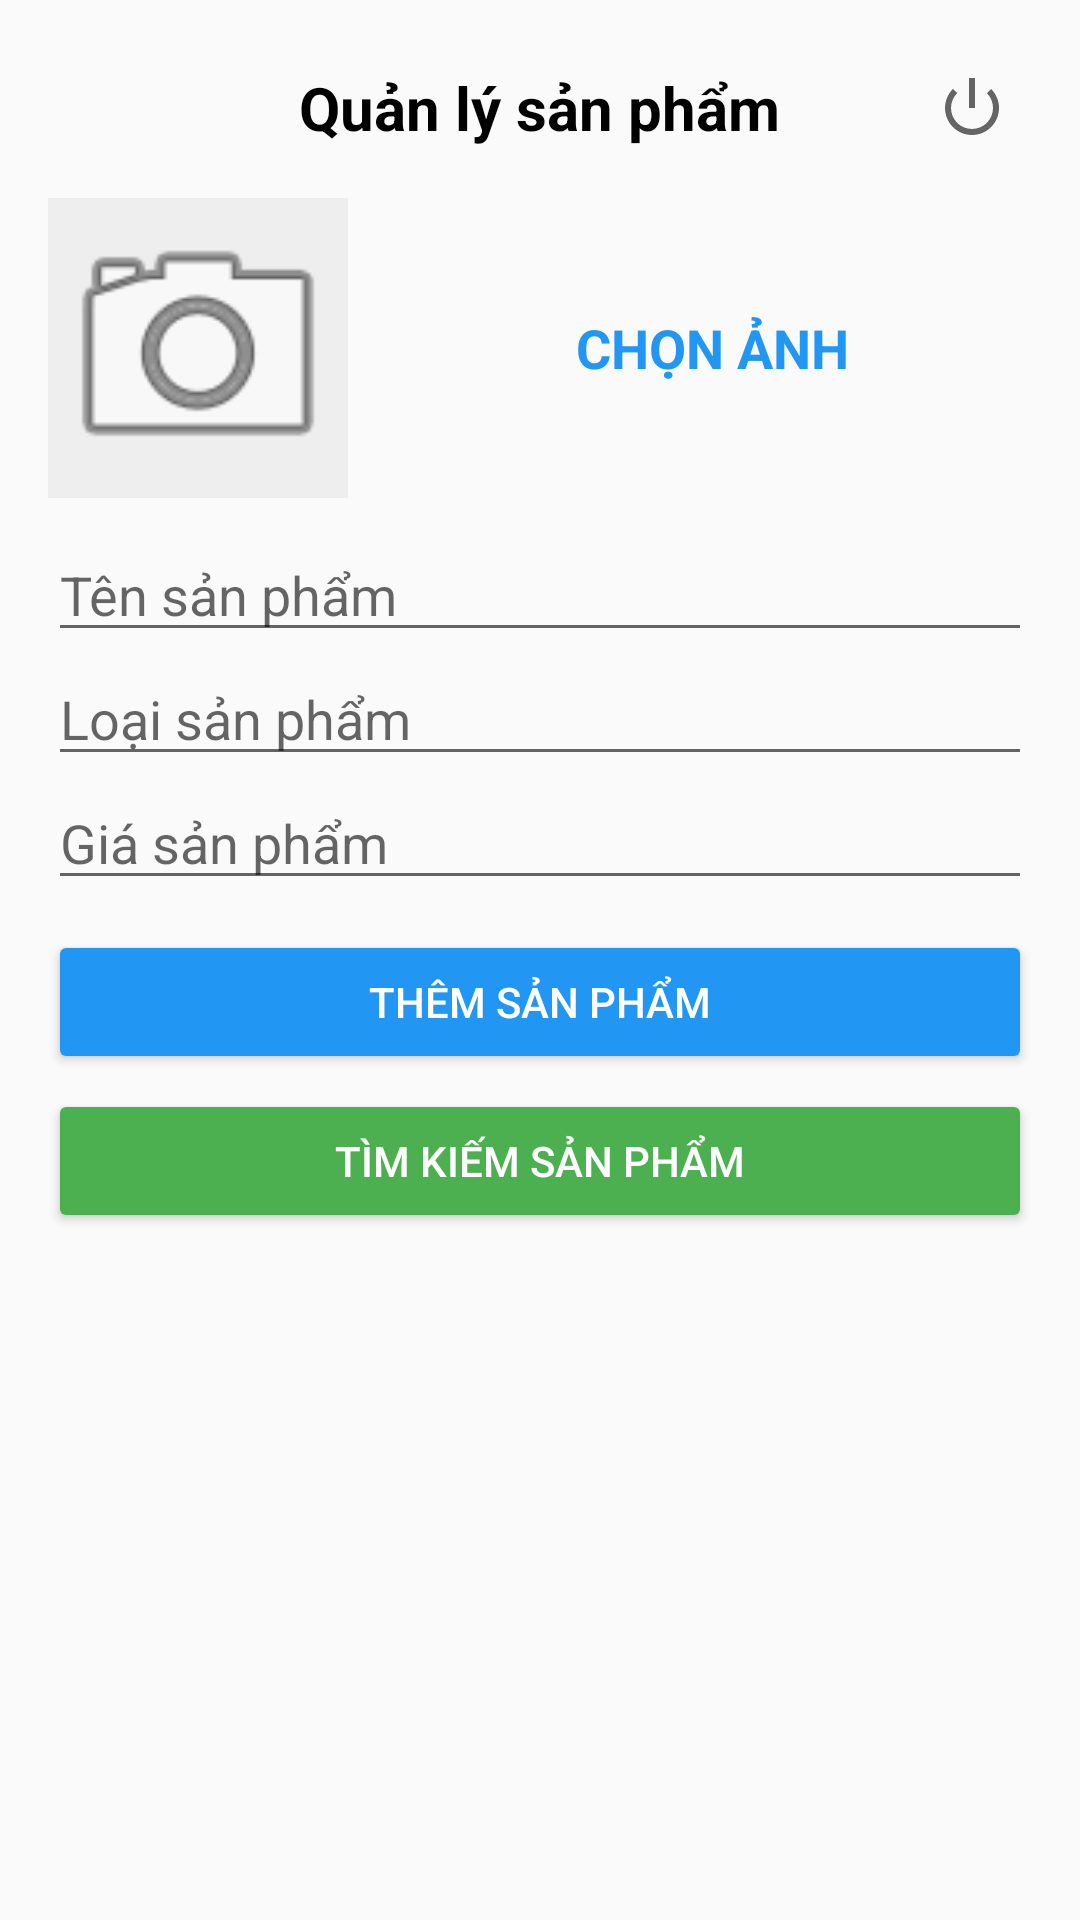

Where icons sit on this 1080*1920 app screen, as bbox=[x1, y1, x2, y2]:
Đăng xuất: bbox=[945, 78, 999, 135]
Ảnh sản phẩm: bbox=[48, 198, 348, 498]
